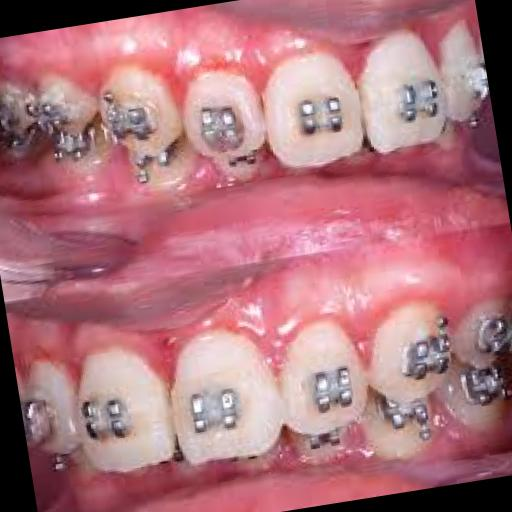correct_brace: (96, 76, 182, 162), (446, 287, 512, 376), (279, 80, 362, 150), (74, 389, 146, 449), (296, 352, 358, 421), (390, 64, 448, 132), (186, 378, 246, 440), (398, 324, 456, 384), (188, 94, 245, 151)
incorrect_brace: (262, 316, 371, 438), (168, 68, 266, 168), (93, 88, 153, 138), (471, 306, 512, 365)
